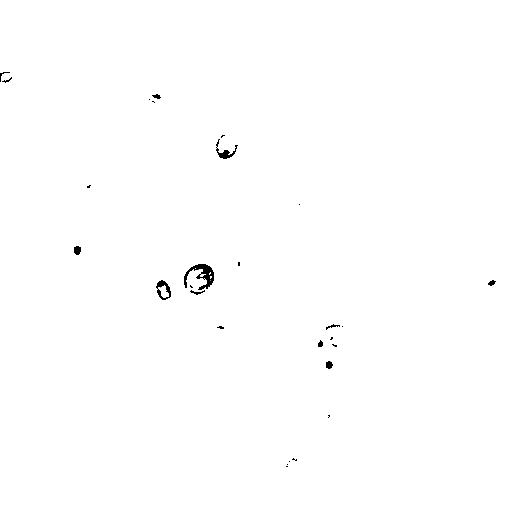micro-algae: (87, 153, 167, 228), (461, 93, 511, 151), (67, 177, 111, 213), (274, 445, 311, 481), (179, 261, 216, 295), (474, 263, 509, 298), (311, 344, 343, 378), (61, 232, 94, 264), (319, 322, 356, 350), (279, 177, 311, 207), (466, 305, 501, 331), (214, 131, 239, 161), (154, 278, 175, 303), (1, 69, 14, 85), (228, 256, 241, 269)
